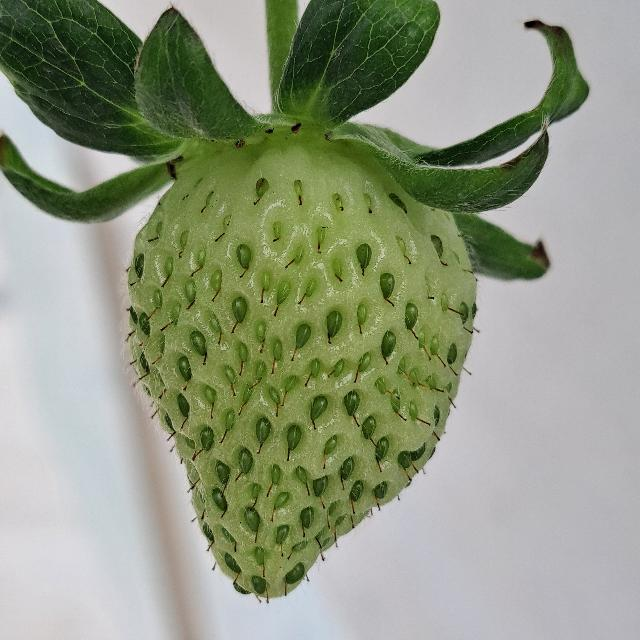Health_25: (128, 142, 476, 598)
